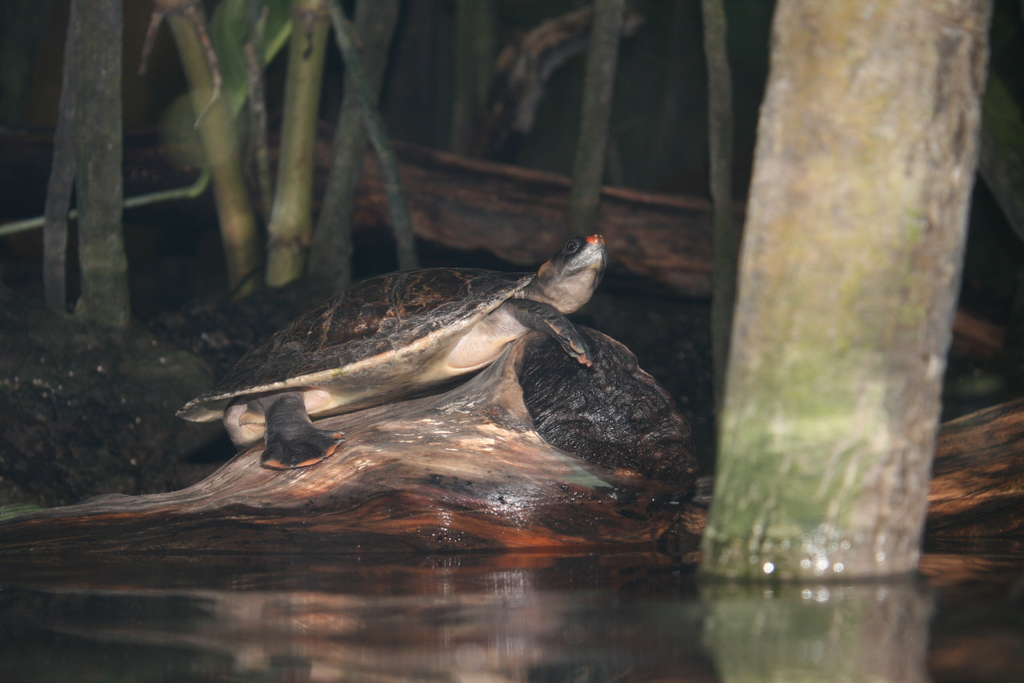Sea turtles: (171, 230, 608, 473)
